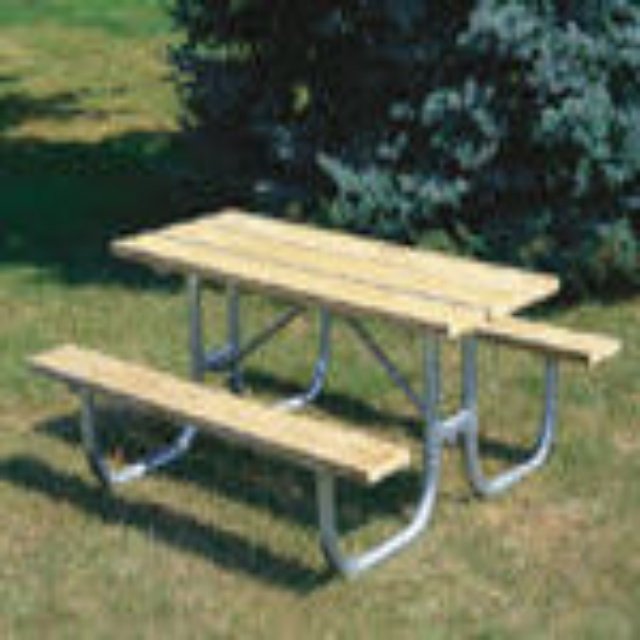obstacle: (30, 202, 614, 602)
